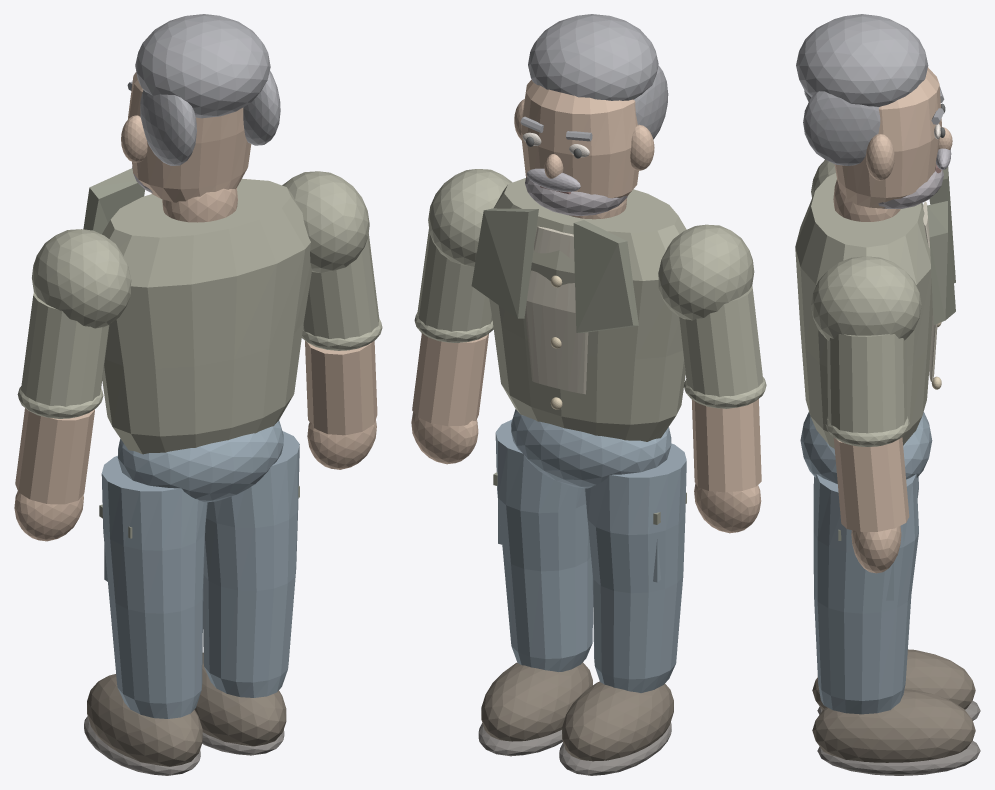
Rendered from jacket_senior.glb.
3 renders of one model, left to right at view 1: azimuth 30°, elevation 25°; view 2: azimuth 150°, elevation 25°; view 3: azimuth 270°, elevation 25°, orthographic. The views are drawn at different scales.
Parts seen in each view (by area): view 1: Body_Torso_002, LL_Pant_036, RL_Pant_043, Body_HairCap_021, LA_Shoulder_026, Body_Pelvis_003, LA_Sleeve_027, Body_Face_010, LA_Forearm_029, RA_Forearm_034, LL_Sneaker_039, RA_Shoulder_031 (+13 smaller); view 2: Body_Torso_002, LL_Pant_036, RL_Pant_043, Body_Face_010, Body_HairCap_021, LA_Shoulder_026, Body_Pelvis_003, LL_Sneaker_039, Body_Shirt_004, LA_Sleeve_027, RL_Sneaker_046, Body_Lapel_005 (+15 smaller); view 3: RL_Pant_043, Body_Torso_002, Body_HairCap_021, RL_Sneaker_046, RA_Sleeve_032, RA_Shoulder_031, Body_Face_010, RA_Forearm_034, Body_TempleHair_023, LL_Sneaker_039, Body_Pelvis_003, Body_Lapel_006 (+9 smaller).
Boxes of the visible parts, x1=… form: Body_Torso_002: x1=102, y1=178, x2=311, y2=454; LL_Pant_036: x1=101, y1=455, x2=207, y2=718; RL_Pant_043: x1=203, y1=431, x2=299, y2=697; Body_HairCap_021: x1=135, y1=14, x2=270, y2=118; LA_Shoulder_026: x1=32, y1=229, x2=131, y2=328; Body_Pelvis_003: x1=117, y1=420, x2=283, y2=502; LA_Sleeve_027: x1=21, y1=292, x2=109, y2=406; Body_Face_010: x1=128, y1=72, x2=251, y2=202; LA_Forearm_029: x1=15, y1=408, x2=94, y2=504; RA_Forearm_034: x1=305, y1=341, x2=377, y2=435; LL_Sneaker_039: x1=87, y1=674, x2=202, y2=766; RA_Shoulder_031: x1=282, y1=171, x2=369, y2=273; Body_Torso_002: x1=489, y1=178, x2=686, y2=441; LL_Pant_036: x1=584, y1=443, x2=686, y2=692; RL_Pant_043: x1=495, y1=419, x2=592, y2=671; Body_Face_010: x1=521, y1=80, x2=638, y2=198; Body_HairCap_021: x1=528, y1=14, x2=658, y2=100; LA_Shoulder_026: x1=658, y1=224, x2=754, y2=320; Body_Pelvis_003: x1=511, y1=409, x2=671, y2=488; LL_Sneaker_039: x1=562, y1=681, x2=673, y2=761; Body_Shirt_004: x1=525, y1=226, x2=588, y2=394; LA_Sleeve_027: x1=679, y1=286, x2=763, y2=396; RL_Sneaker_046: x1=481, y1=662, x2=592, y2=741; Body_Lapel_005: x1=573, y1=220, x2=638, y2=332; RL_Pant_043: x1=813, y1=474, x2=918, y2=714; Body_Torso_002: x1=795, y1=173, x2=932, y2=448; Body_HairCap_021: x1=796, y1=14, x2=928, y2=106; RL_Sneaker_046: x1=812, y1=689, x2=975, y2=762; RA_Sleeve_032: x1=827, y1=334, x2=907, y2=433; RA_Shoulder_031: x1=811, y1=256, x2=921, y2=340; Body_Face_010: x1=834, y1=67, x2=941, y2=208; RA_Forearm_034: x1=833, y1=437, x2=909, y2=531; Body_TempleHair_023: x1=803, y1=91, x2=880, y2=165; LL_Sneaker_039: x1=812, y1=649, x2=975, y2=710; Body_Pelvis_003: x1=800, y1=412, x2=932, y2=483; Body_Lapel_006: x1=927, y1=201, x2=955, y2=324.
Bounding box in the file's own units: 1.54 × 3.03 × 0.704.
